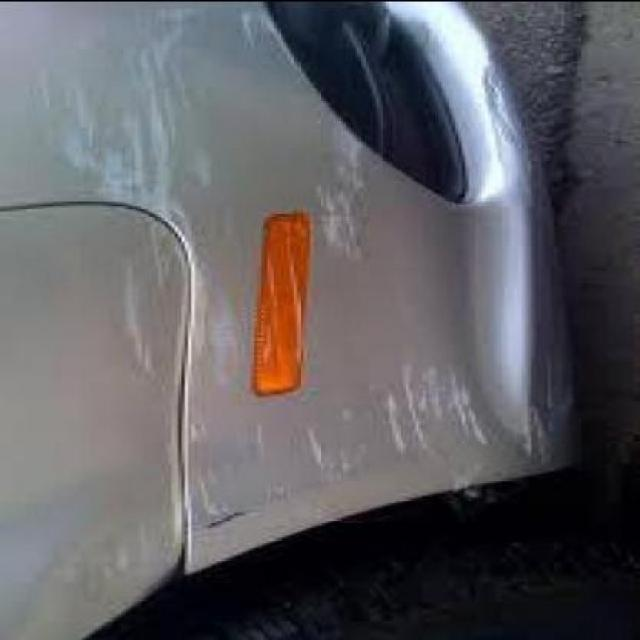damage: (35, 5, 561, 588)
